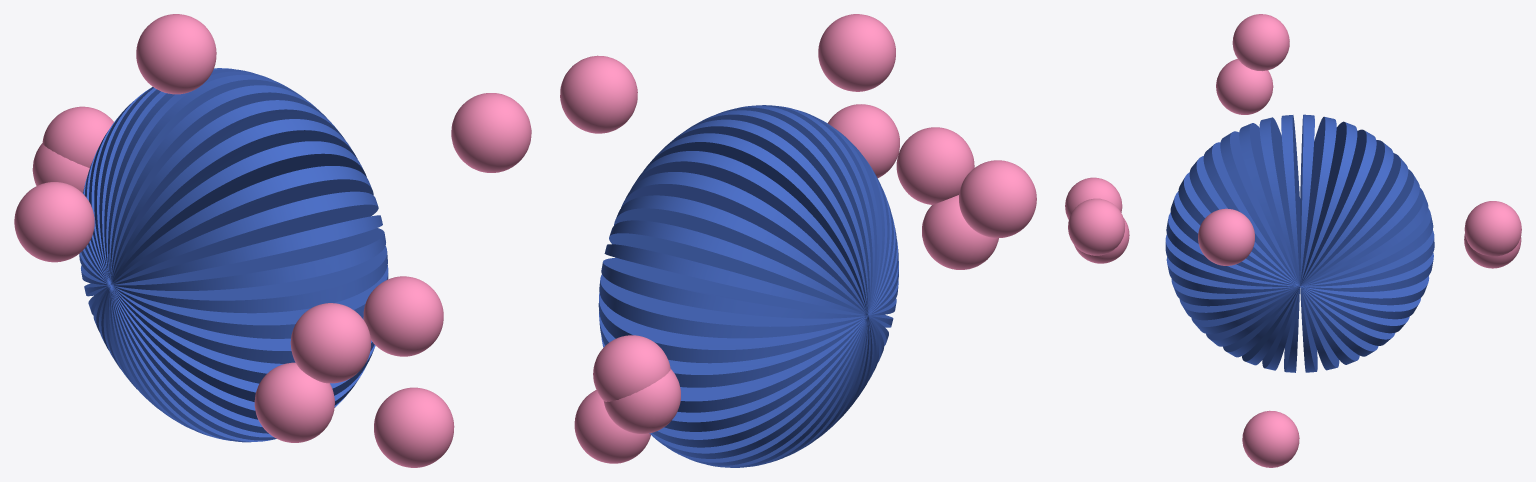
Rendered from galaxy.gltf.
3 views of the same model, side by side, from view 1: azimuth 30°, elevation 25°; view 2: azimuth 150°, elevation 25°; view 3: azimuth 270°, elevation 25° (orthographic). The views are drawn at different scales.
Parts seen in each view (by area): view 1: B1.Spin, A6.Sphere.03.Scene.02, A7.Sphere.01.Scene.03, A8.Sphere.03.Scene.03, A5.Sphere.02.Scene.02, A1.Sphere.01.Scene.01, A3.Sphere.03.Scene.01, A2.Sphere.02.Scene.01, A4.Sphere.01.Scene.02, A9.Sphere.02.Scene.03; view 2: B1.Spin, A6.Sphere.03.Scene.02, A7.Sphere.01.Scene.03, A5.Sphere.02.Scene.02, A1.Sphere.01.Scene.01, A4.Sphere.01.Scene.02, A2.Sphere.02.Scene.01, A3.Sphere.03.Scene.01, A8.Sphere.03.Scene.03, A9.Sphere.02.Scene.03; view 3: B1.Spin, A3.Sphere.03.Scene.01, A8.Sphere.03.Scene.03, A5.Sphere.02.Scene.02, A6.Sphere.03.Scene.02, A4.Sphere.01.Scene.02, A7.Sphere.01.Scene.03, A1.Sphere.01.Scene.01, A9.Sphere.02.Scene.03, A2.Sphere.02.Scene.01.
Boxes of the visible parts, x1,y1,x2,y2 form: B1.Spin: [79, 68, 388, 442]; A6.Sphere.03.Scene.02: [136, 14, 216, 94]; A7.Sphere.01.Scene.03: [14, 182, 94, 262]; A8.Sphere.03.Scene.03: [374, 387, 454, 467]; A5.Sphere.02.Scene.02: [451, 93, 531, 172]; A1.Sphere.01.Scene.01: [290, 303, 370, 383]; A3.Sphere.03.Scene.01: [363, 276, 443, 356]; A2.Sphere.02.Scene.01: [254, 362, 334, 442]; A4.Sphere.01.Scene.02: [42, 106, 113, 167]; A9.Sphere.02.Scene.03: [32, 143, 89, 193]; B1.Spin: [598, 105, 898, 467]; A6.Sphere.03.Scene.02: [818, 14, 895, 91]; A7.Sphere.01.Scene.03: [959, 160, 1036, 237]; A5.Sphere.02.Scene.02: [560, 55, 637, 133]; A1.Sphere.01.Scene.01: [896, 127, 974, 204]; A4.Sphere.01.Scene.02: [593, 335, 670, 401]; A2.Sphere.02.Scene.01: [922, 195, 998, 269]; A3.Sphere.03.Scene.01: [827, 104, 899, 177]; A8.Sphere.03.Scene.03: [574, 390, 650, 463]; A9.Sphere.02.Scene.03: [603, 369, 680, 433]; B1.Spin: [1165, 114, 1434, 372]; A3.Sphere.03.Scene.01: [1068, 198, 1124, 255]; A8.Sphere.03.Scene.03: [1242, 410, 1299, 467]; A5.Sphere.02.Scene.02: [1198, 208, 1254, 265]; A6.Sphere.03.Scene.02: [1232, 14, 1289, 71]; A4.Sphere.01.Scene.02: [1464, 201, 1521, 256]; A7.Sphere.01.Scene.03: [1216, 59, 1273, 114]; A1.Sphere.01.Scene.01: [1065, 177, 1122, 219]; A9.Sphere.02.Scene.03: [1464, 234, 1521, 268]; A2.Sphere.02.Scene.01: [1074, 218, 1129, 263].
Size of the model in its own units: 1.2 by 1.19 by 1.36.
